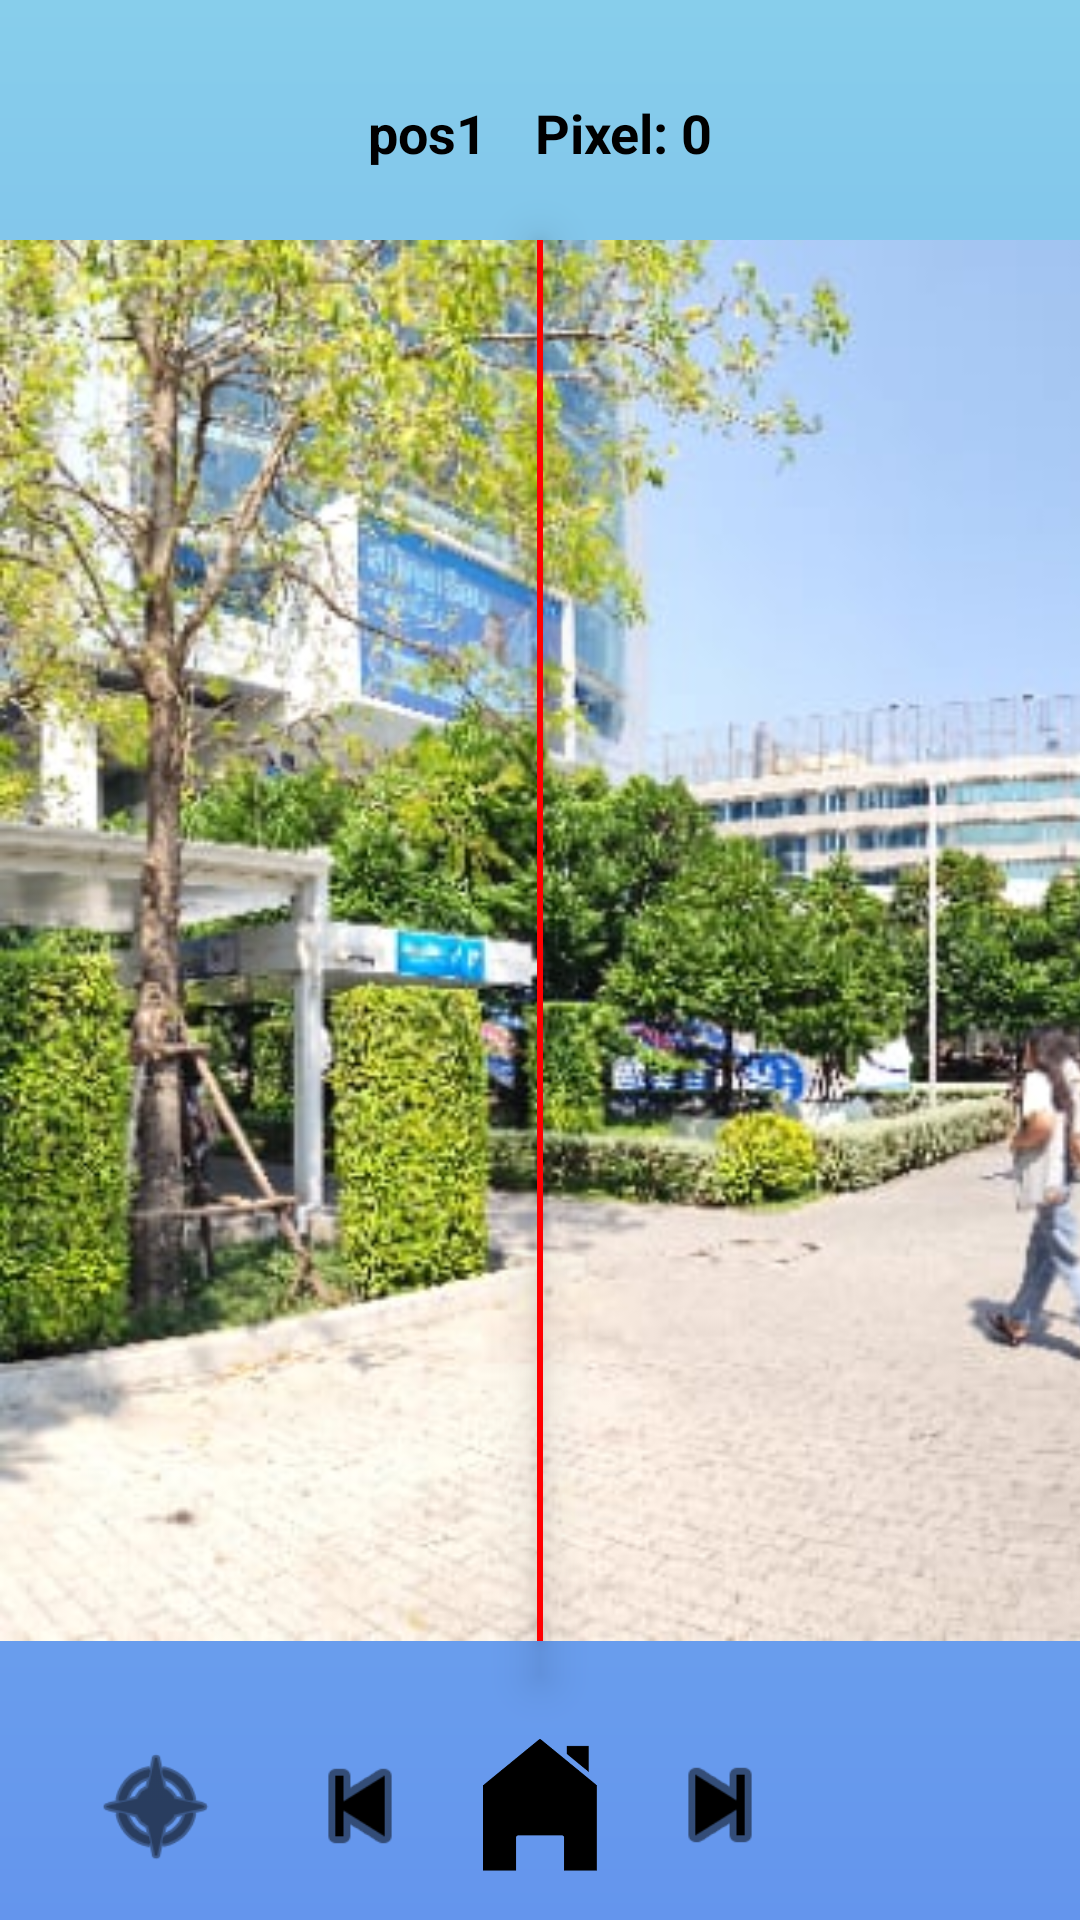

Icons on this 1080*1920 Android screen, each with its box as bbox(x1, y1, x2, y2):
compass: bbox(103, 1755, 208, 1859)
home: bbox(483, 1739, 597, 1871)
next: bbox(688, 1767, 752, 1843)
previous: bbox(328, 1768, 392, 1844)
